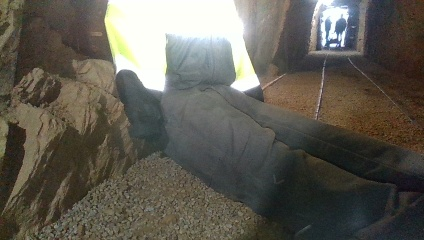manikin: (104, 0, 311, 239)
